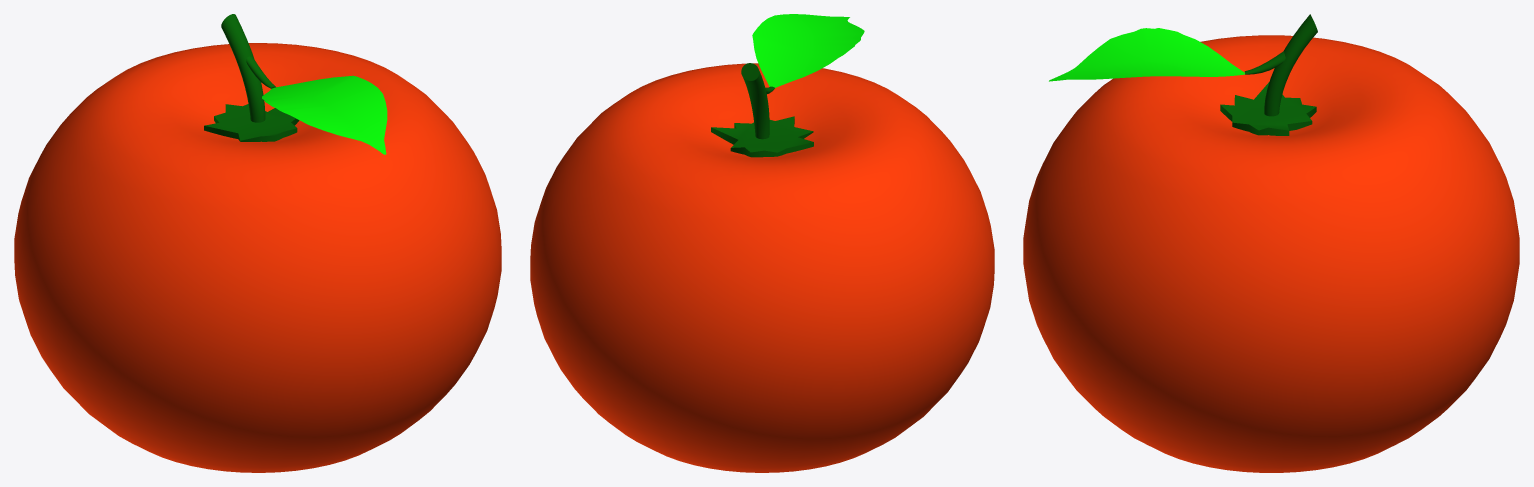
Rendered from N_Orange.fbx.
3 renders of one model, left to right at view 1: azimuth 30°, elevation 25°; view 2: azimuth 150°, elevation 25°; view 3: azimuth 270°, elevation 25°, orthographic. The views are drawn at different scales.
Visible parts, largest first — view 1: Orange; view 2: Orange; view 3: Orange.
Part boxes in pixels (x1,y1,x2,y2): Orange: (14, 14, 501, 472); Orange: (530, 14, 994, 472); Orange: (1023, 14, 1519, 472).
Size of the model in its own units: 4.98 by 4.48 by 4.99.
